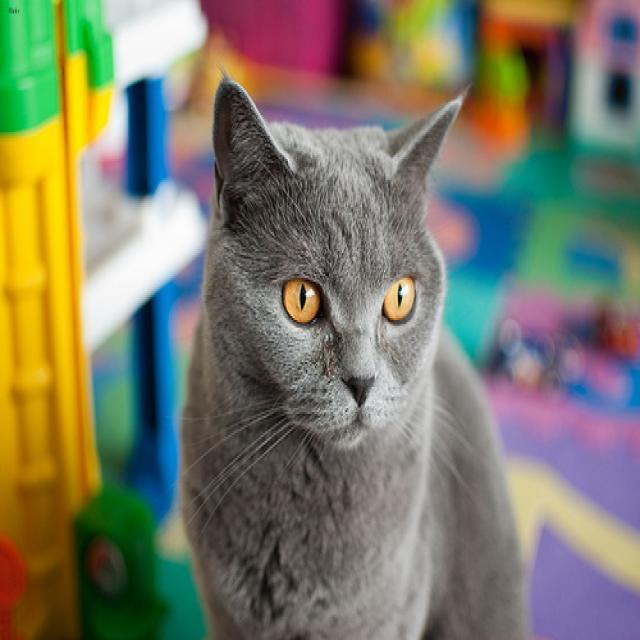British_Shorthair: (211, 73, 460, 446)
